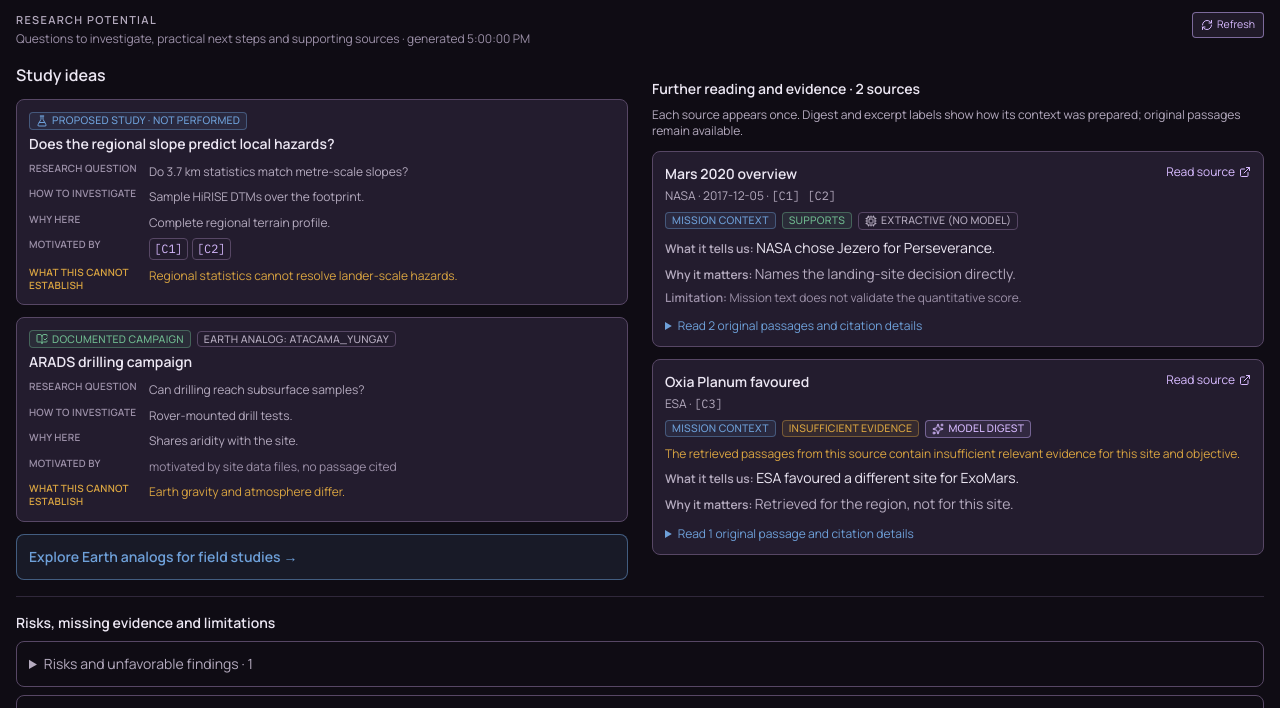
Scenario: ExplanationPanel digests and study cards › sends the applied objective, renders one card per URL with support levels and per-chunk citation handles
The image size is (1280, 708).
Expected: the text "NASA chose Jezero for Perseverance." is shown, [756, 238, 995, 256]
Expected: the number of list items with test id "source-card" is 2, [652, 150, 1264, 346]; [652, 358, 1264, 554]
Note: original passages keep their own chunk ids and handles
Click the heading "Read 2 original passages and citation details".
click(800, 325)  # box [678, 316, 922, 334]
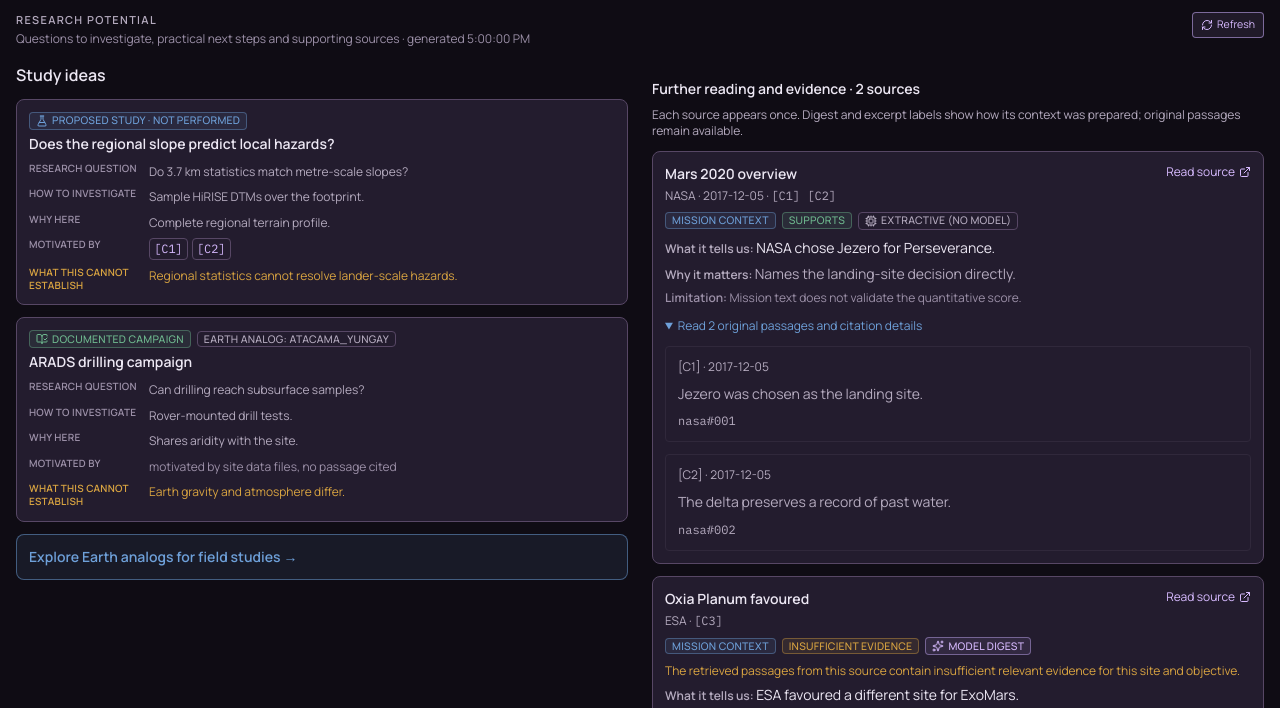
Expected: the list item with test id "source-card" shows "nasa#001", [678, 413, 736, 428]
Expected: the list item with test id "source-card" shows "nasa#002", [678, 522, 736, 537]
